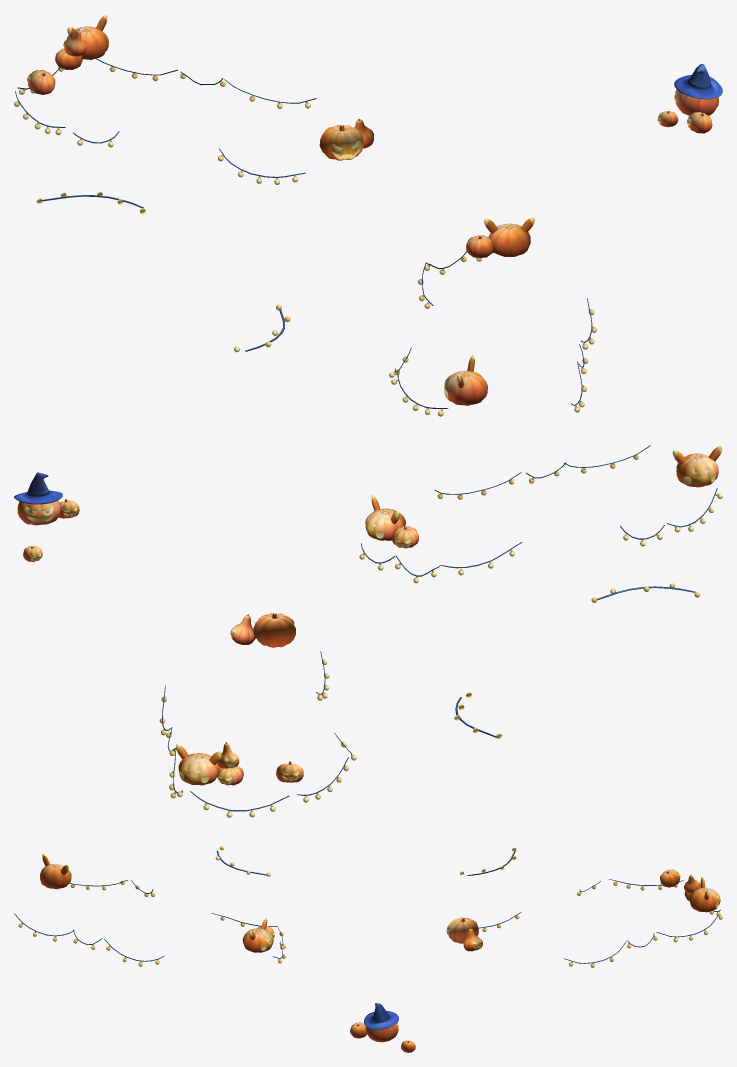
Rendered from pref_sm_4v4beachtech_WSJ_bk_decorate_C01_lv2.fbx.
3 renders of one model, top to bottom at view 1: azimuth 30°, elevation 25°; view 2: azimuth 150°, elevation 25°; view 3: azimuth 270°, elevation 25°, orthographic. The views are drawn at different scales.
Visible parts, largest first — view 1: sm_4v4beachtech_WSJ_bk_decorate_C01_b_lv2, sm_4v4beachtech_WSJ_bk_decorate_C01_a_lv2; view 2: sm_4v4beachtech_WSJ_bk_decorate_C01_b_lv2, sm_4v4beachtech_WSJ_bk_decorate_C01_a_lv2; view 3: sm_4v4beachtech_WSJ_bk_decorate_C01_b_lv2, sm_4v4beachtech_WSJ_bk_decorate_C01_a_lv2.
Boxes of the visible parts, x1,y1,x2,y2 form: sm_4v4beachtech_WSJ_bk_decorate_C01_b_lv2: (27, 14, 722, 405); sm_4v4beachtech_WSJ_bk_decorate_C01_a_lv2: (14, 58, 596, 416); sm_4v4beachtech_WSJ_bk_decorate_C01_b_lv2: (14, 445, 722, 785); sm_4v4beachtech_WSJ_bk_decorate_C01_a_lv2: (159, 445, 722, 817); sm_4v4beachtech_WSJ_bk_decorate_C01_b_lv2: (40, 854, 720, 1052); sm_4v4beachtech_WSJ_bk_decorate_C01_a_lv2: (14, 846, 722, 967).
Size of the model in its own units: 24.01 by 3.29 by 34.09.
